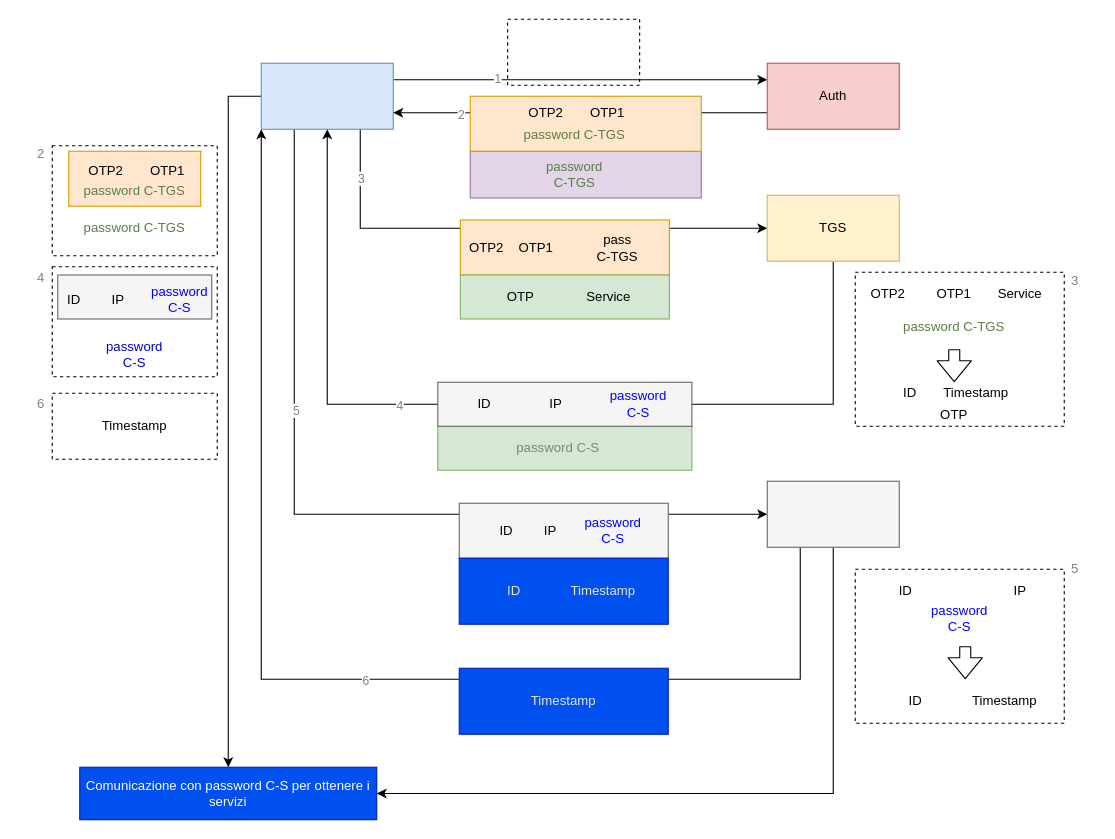
Image size: 1115x839. Some labels were removed from this diagram. Here are the shapes that lost their labels. From the top down, the centre of each, then its label:
the point at 573,51: Ciao, sono Client (ID)
the point at 326,95: Client
the point at 832,513: Server
